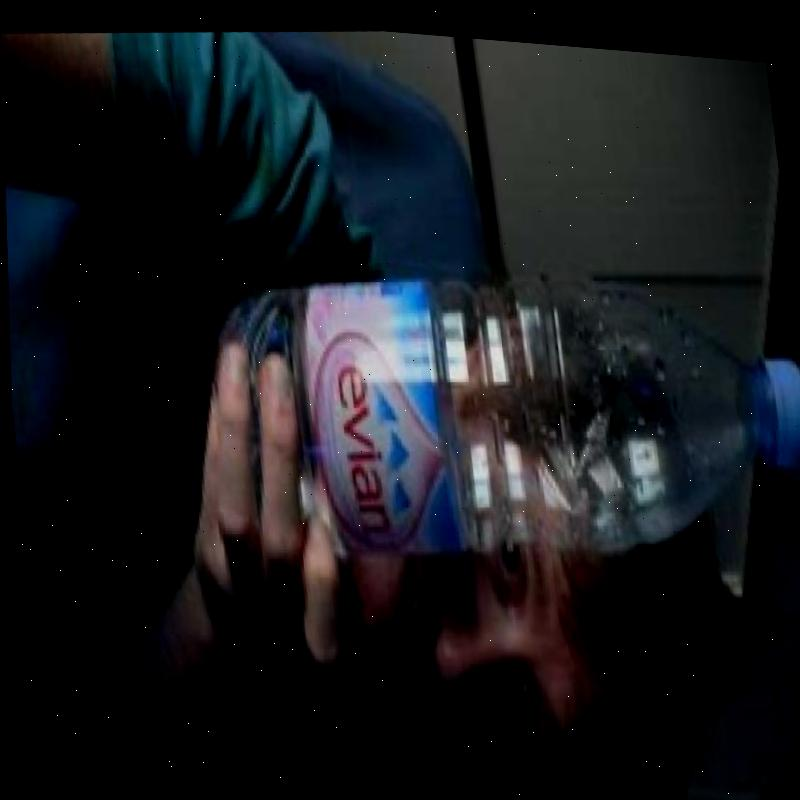botella: (207, 222, 800, 595)
